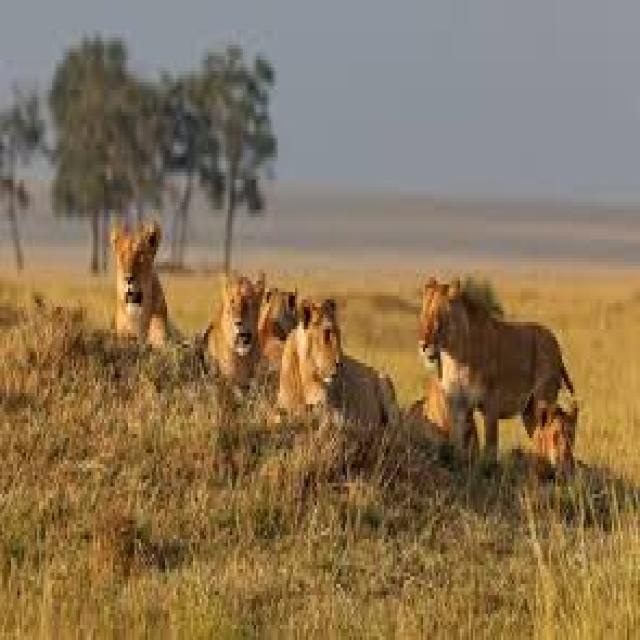Lion: (198, 267, 273, 402), (112, 215, 183, 338)
